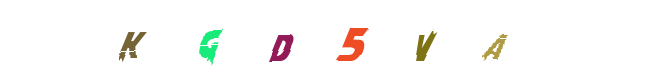5: (285, 0, 365, 80)
A: (372, 0, 452, 80)
D: (242, 0, 322, 80)
G: (230, 0, 310, 80)
K: (169, 0, 249, 80)
V: (313, 0, 393, 80)
